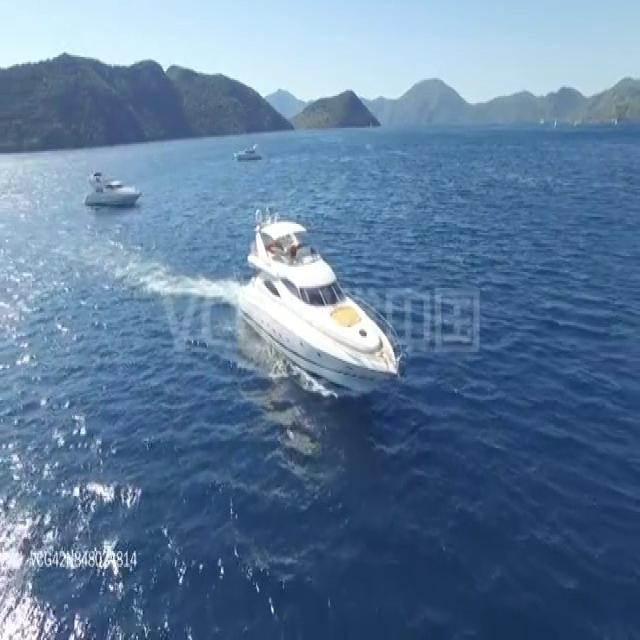houseboat: (240, 207, 402, 382), (85, 160, 139, 204), (230, 140, 262, 160)
